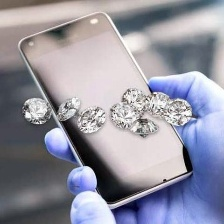phone: (14, 8, 199, 213)
